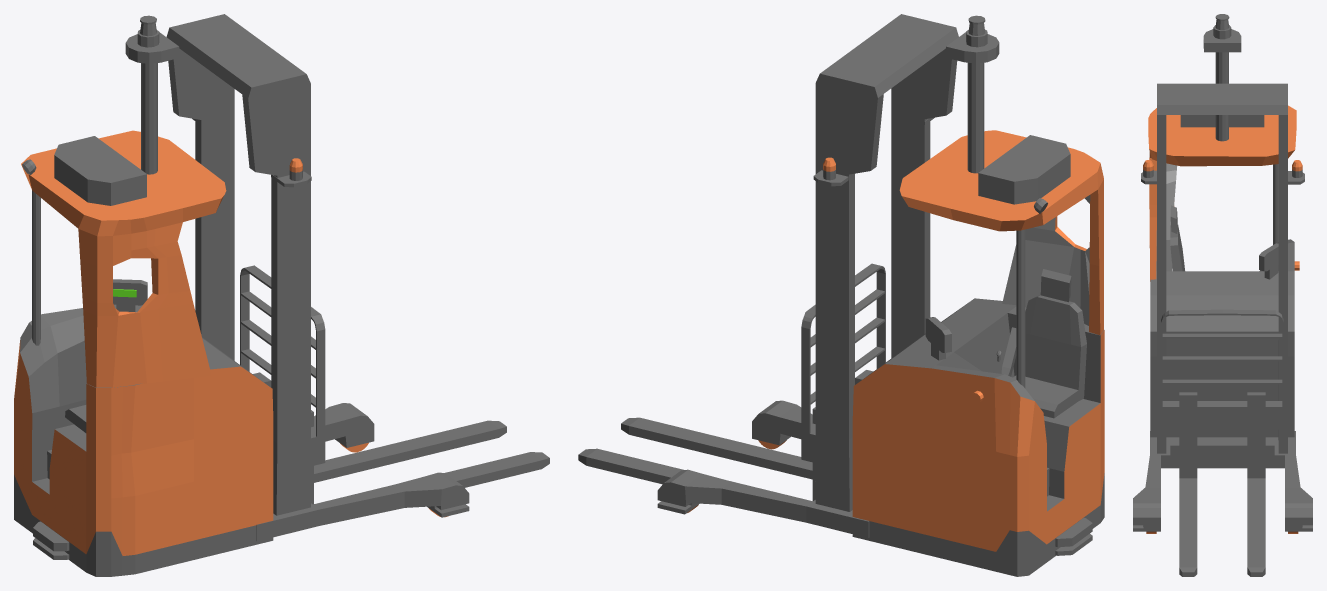
File: RAE low poly.fbx
3 renders of one model, left to right at view 1: azimuth 30°, elevation 25°; view 2: azimuth 150°, elevation 25°; view 3: azimuth 270°, elevation 25°, orthographic. The views are drawn at different scales.
Visible parts, largest first — view 1: mainbody.001, frontmass, roof, fork, bodyfront, controlbox, sensortop, roofpole, Cube, screen.001; view 2: mainbody.001, frontmass, roof, fork, bodyfront, chair, controlbox, sensortop, roofpole, Cube, screen.001, Cube.003; view 3: mainbody.001, fork, frontmass, roof, bodyfront, sensortop, controlbox, screen.001, chair, roofpole, cone.001.
Part boxes in pixels (box(x1,y1,x2,y2)): mainbody.001: box(14, 304, 273, 576); frontmass: box(166, 14, 310, 515); roof: box(21, 130, 226, 387); fork: box(240, 265, 549, 504); bodyfront: box(256, 403, 469, 541); controlbox: box(54, 136, 146, 205); sensortop: box(125, 32, 179, 174); roofpole: box(32, 190, 40, 345); Cube: box(33, 521, 69, 559); screen.001: box(113, 279, 147, 311); mainbody.001: box(852, 298, 1104, 576); frontmass: box(815, 14, 958, 511); roof: box(899, 130, 1103, 334); fork: box(578, 263, 885, 501); bodyfront: box(657, 400, 869, 537); chair: box(1013, 295, 1086, 418); controlbox: box(978, 135, 1070, 204); sensortop: box(946, 32, 999, 173); roofpole: box(1016, 229, 1025, 388); Cube: box(1055, 518, 1092, 555); screen.001: box(925, 317, 951, 360); Cube.003: box(1040, 269, 1071, 302); mainbody.001: box(1150, 239, 1294, 437); fork: box(1161, 309, 1283, 576); frontmass: box(1157, 83, 1287, 453); roof: box(1148, 105, 1296, 281); bodyfront: box(1133, 431, 1312, 531); sensortop: box(1203, 29, 1241, 141); controlbox: box(1180, 115, 1264, 127); screen.001: box(1259, 243, 1278, 279); chair: box(1170, 225, 1184, 271); roofpole: box(1273, 164, 1278, 244); cone.001: box(1213, 14, 1231, 39).
Bounding box in the file's own units: 242 × 252 × 98.
